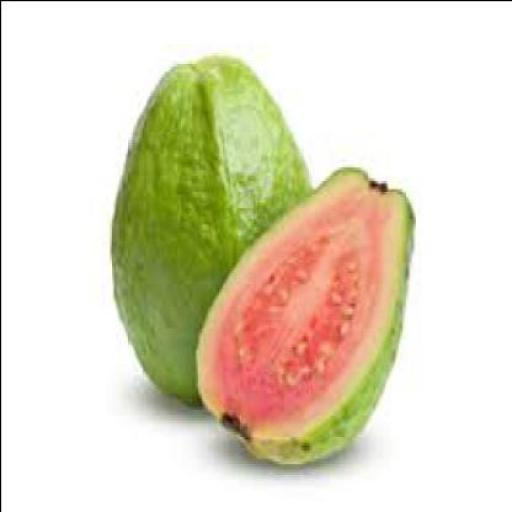biodegradable: (110, 52, 318, 406), (197, 163, 415, 466)
